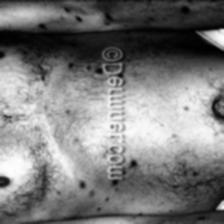Non-Cancerous Skin Condition: (29, 4, 202, 34), (66, 154, 140, 214), (67, 35, 103, 87)
